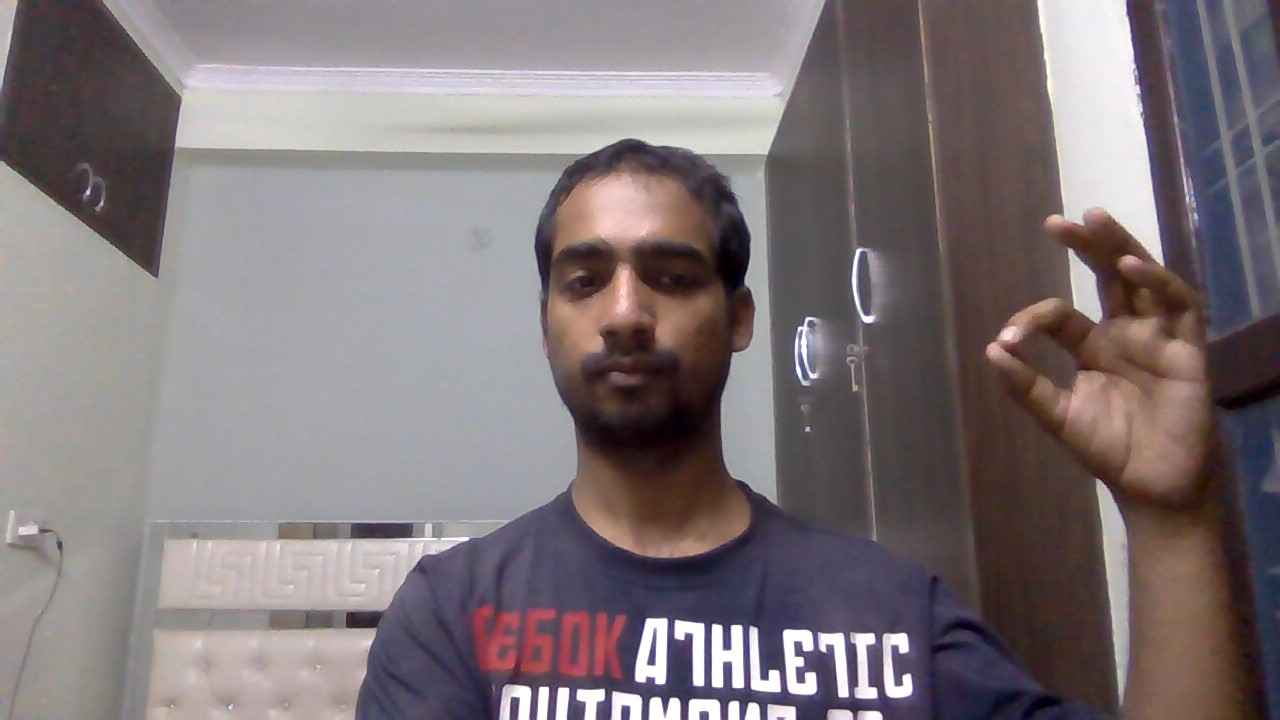Copy: (971, 203, 1254, 518)
